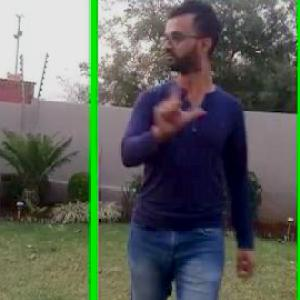land_hand: (144, 70, 204, 137)
